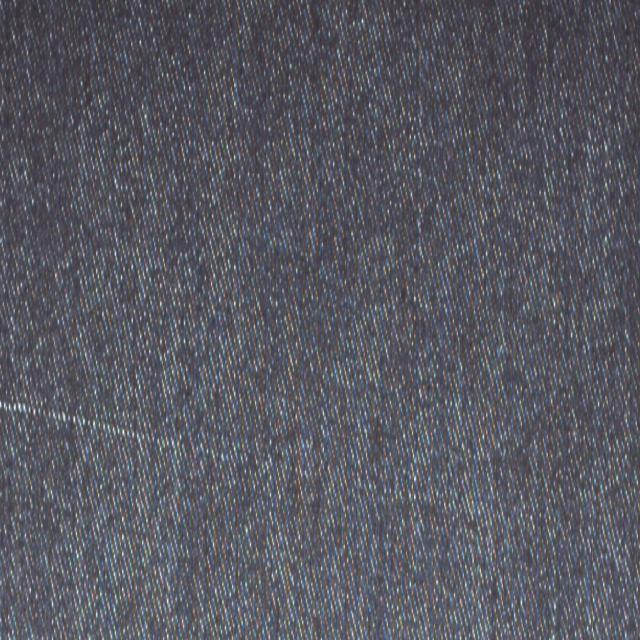Line: (0, 392, 600, 552)
